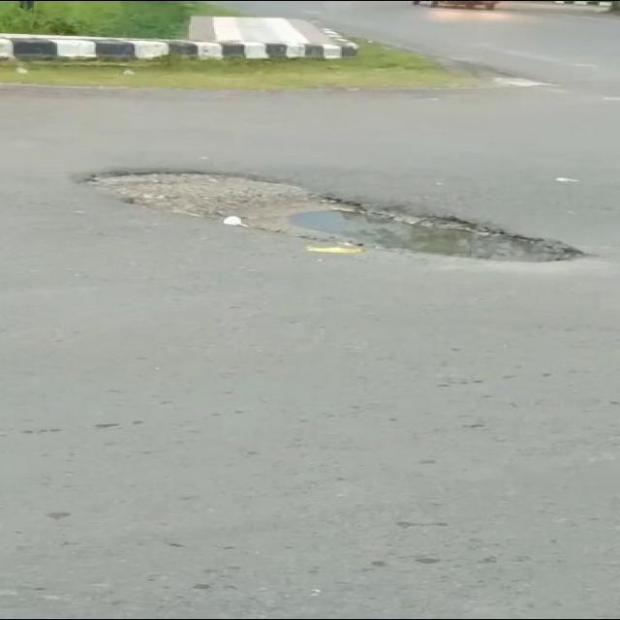lubang: (86, 170, 590, 263)
